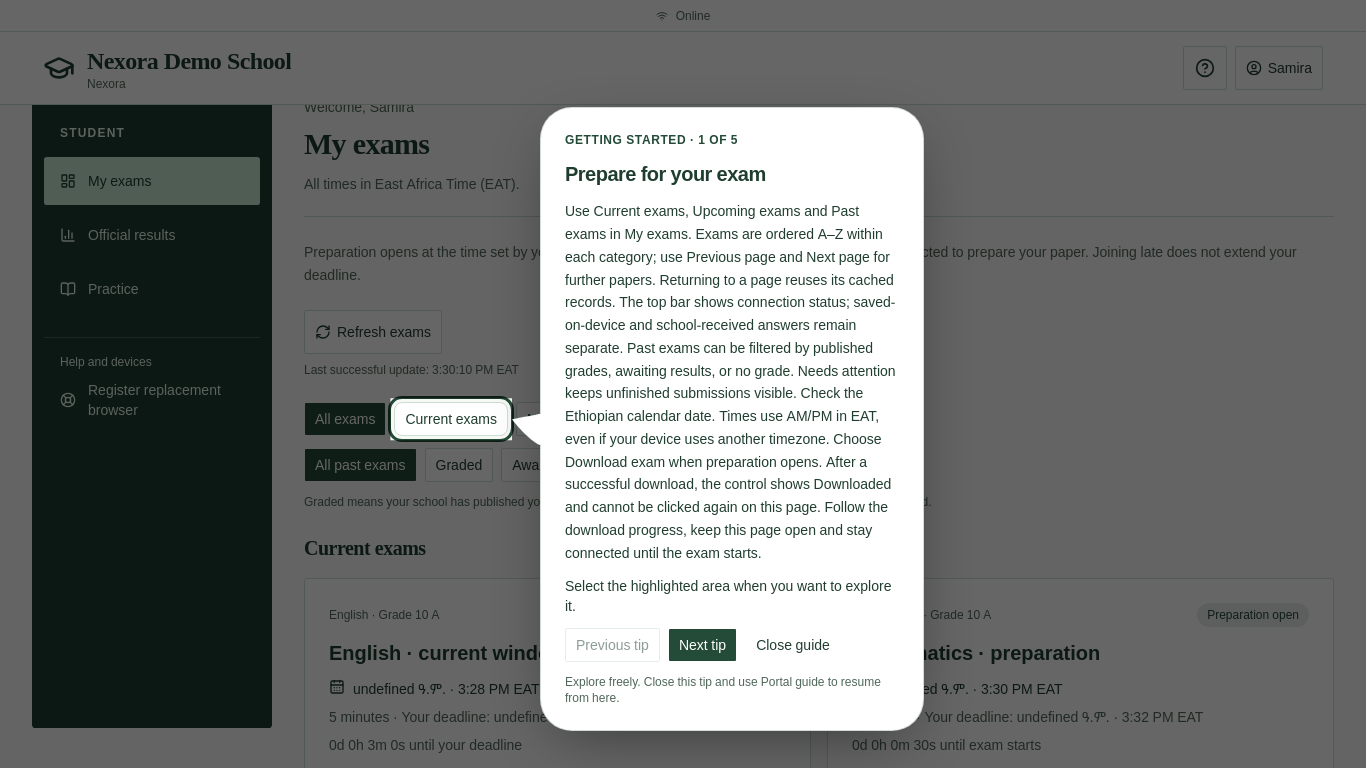
Test: authentication and routing › does not pretend logout succeeded when the server fails
This screenshot has width=1366, height=768.
(page scrolled)
Click the button with aria-label "Open account menu": (1279, 68) left=1235, top=46, right=1323, bottom=90
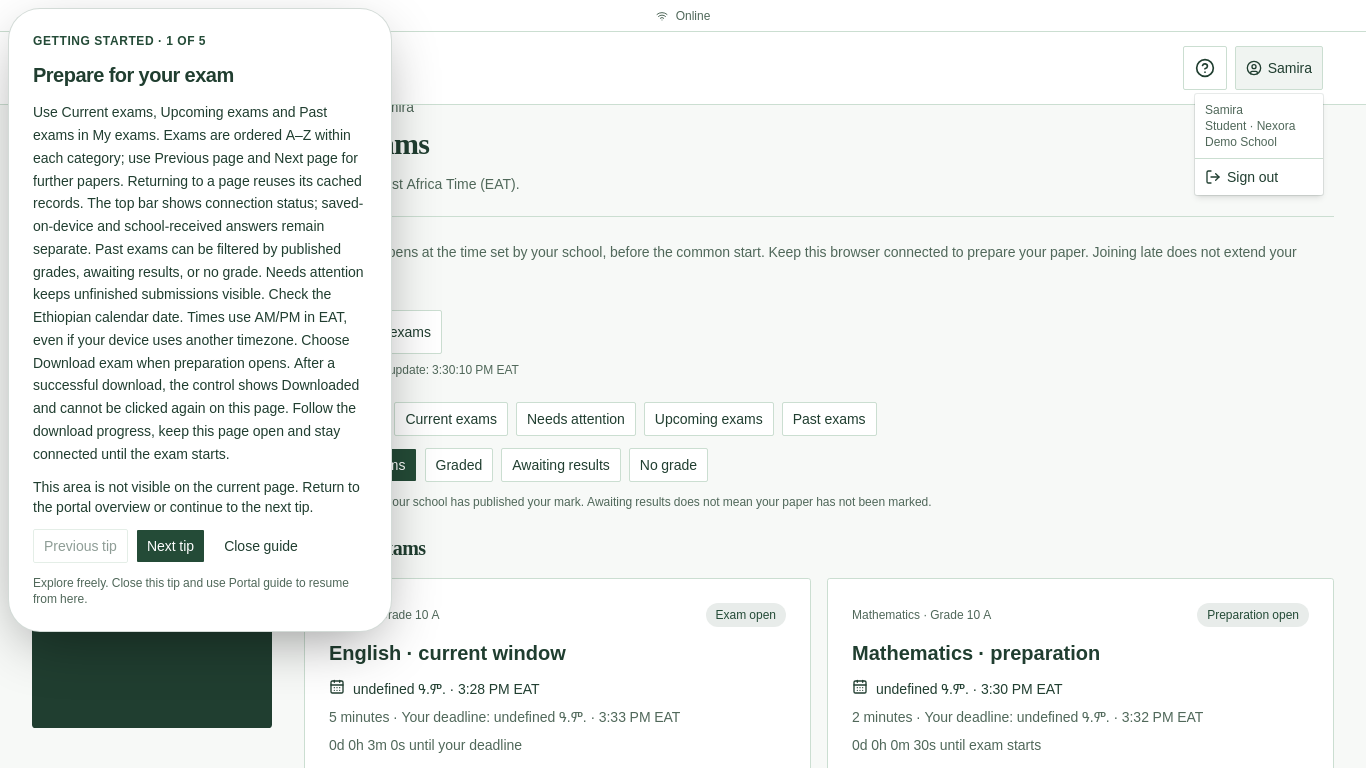
Click the menu item "Sign out": (1242, 176) left=1205, top=167, right=1278, bottom=186
(page scrolled)
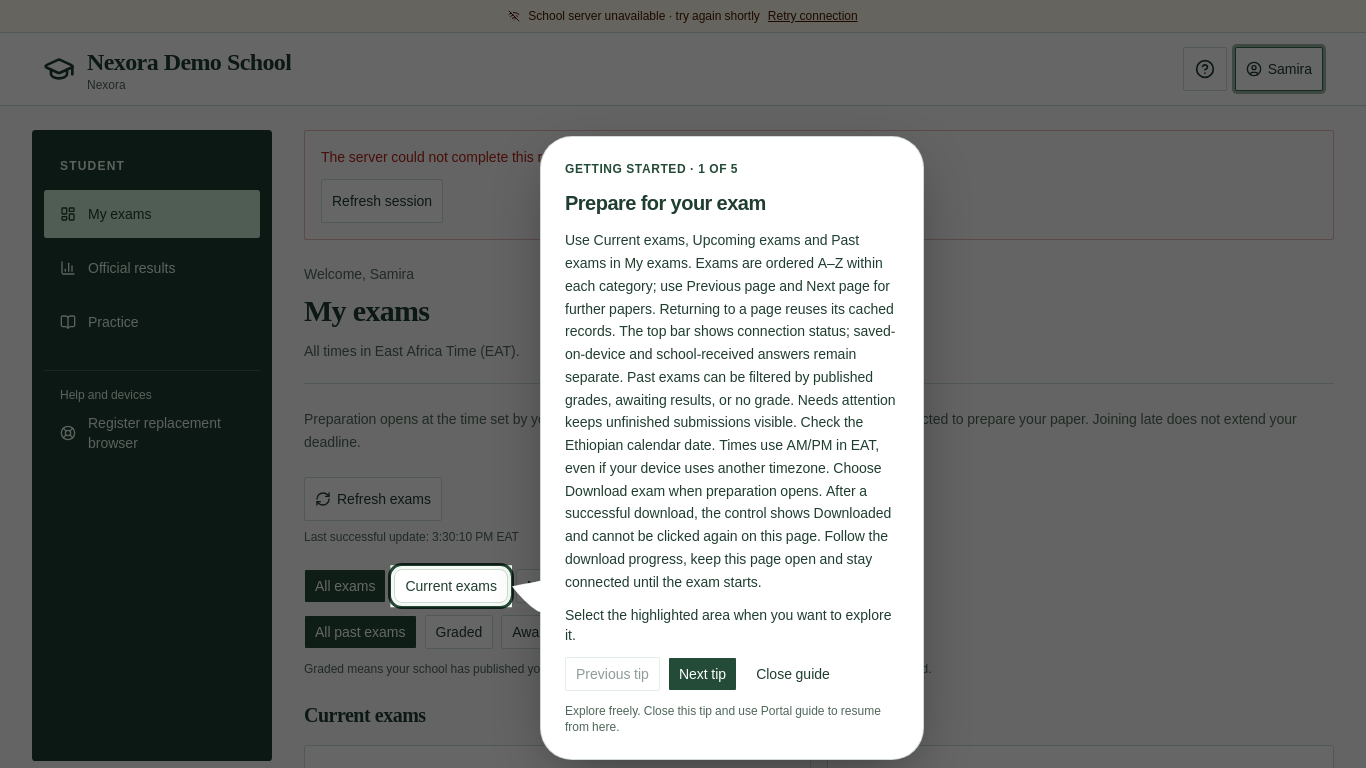
Expected: the message "The server could not complete this request. Please try again. Refresh session" is shown, left=304, top=130, right=1334, bottom=240
